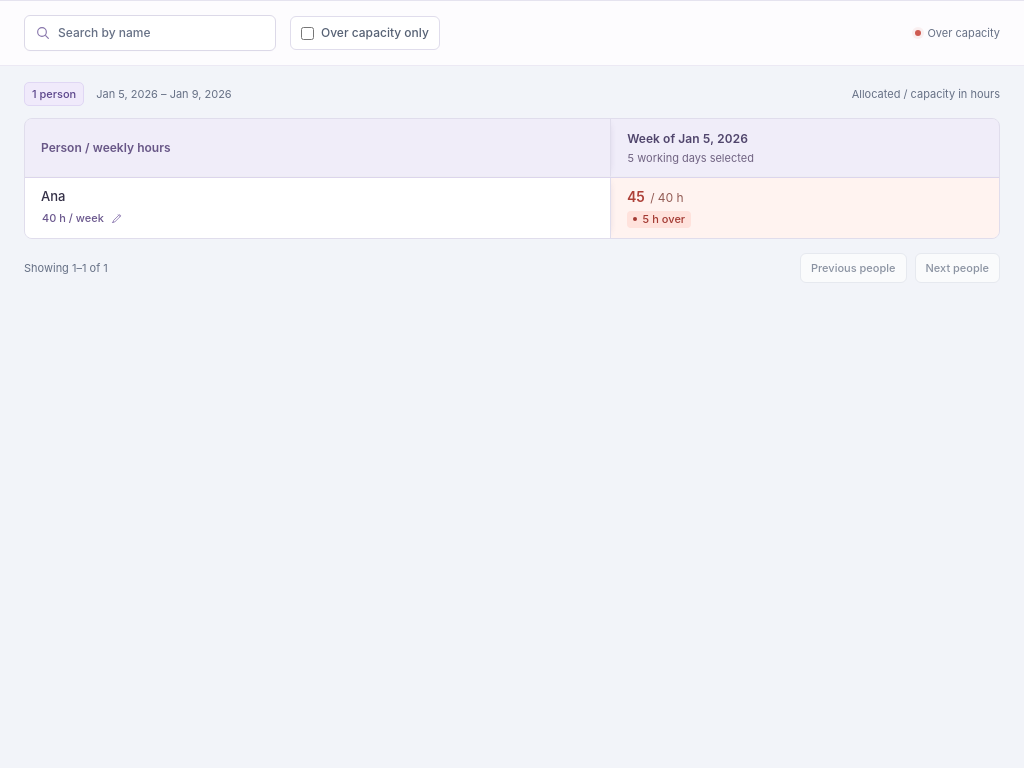
capacity planning › keeps a failed-save draft, then refreshes authoritative numbers on retry
Click the button with aria-label "Edit weekly hours for Ana" at x=82, y=218, box [36,208,128,228]
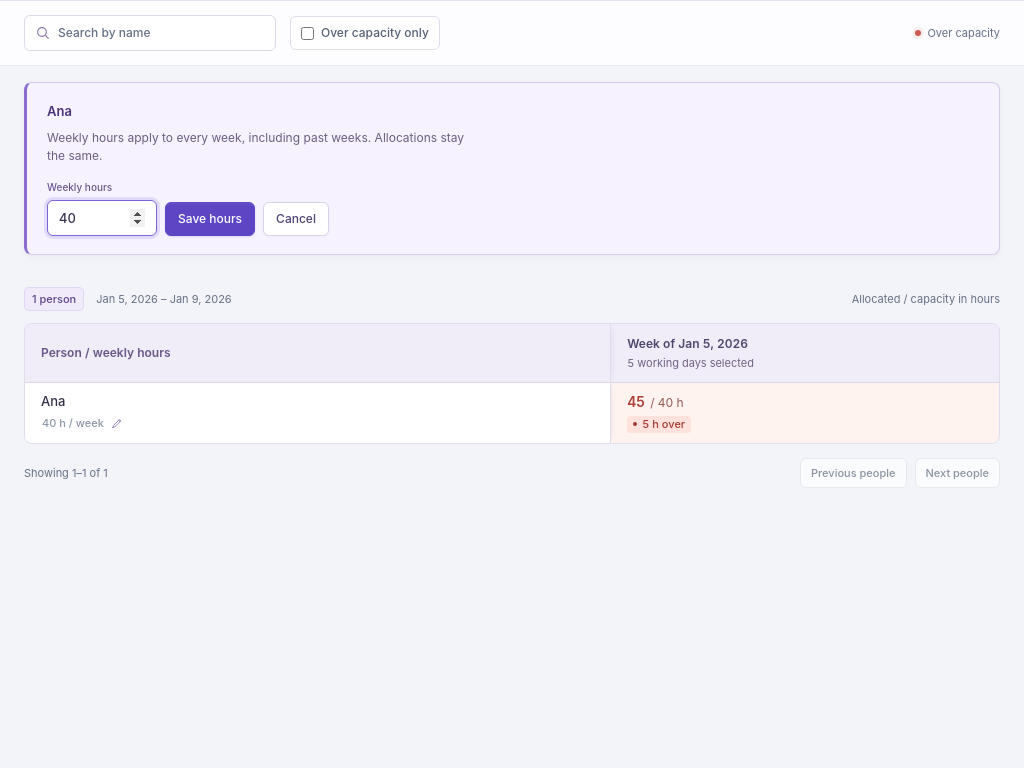
Replace the text in the number field labelled "Weekly hours" with "30" at x=102, y=218, box [47,200,157,236]
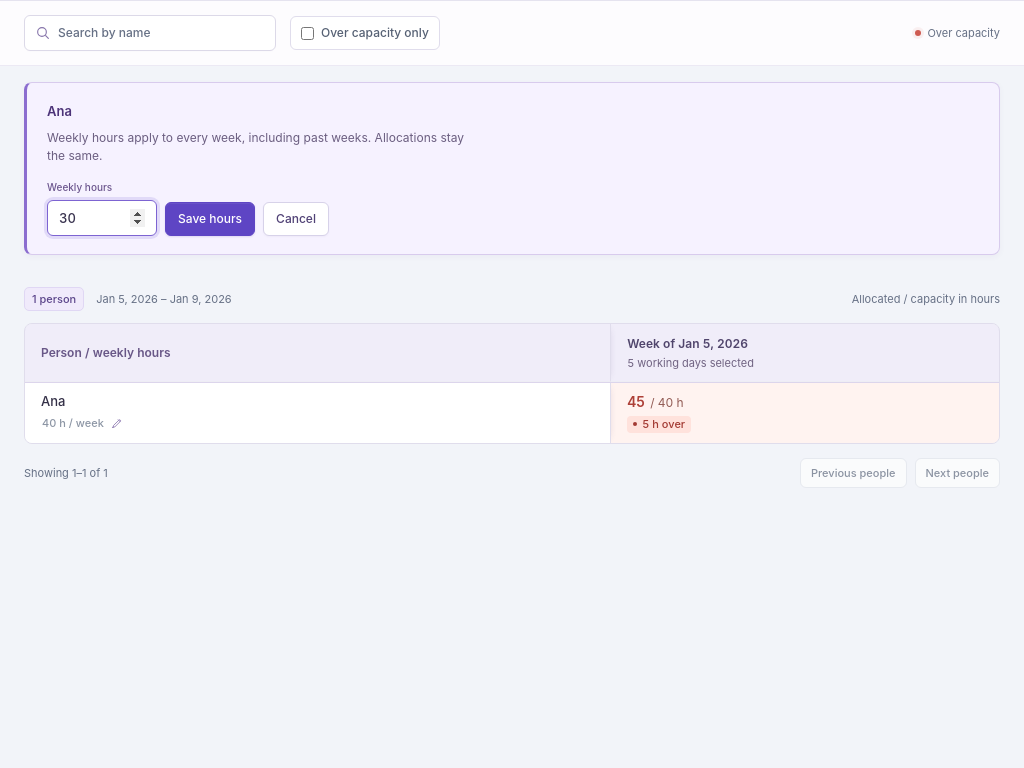
Click the button "Save hours" at x=210, y=219, box [165,202,255,236]
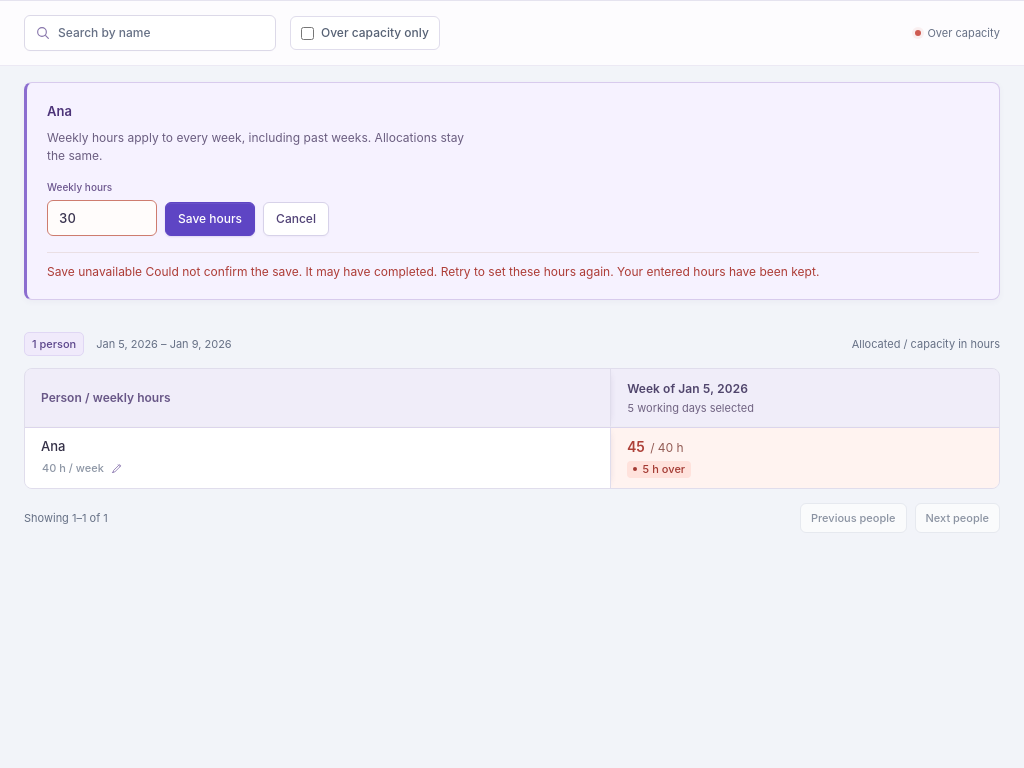
Expected: the text "5 h over" is shown, [627,460,691,478]
Expected: the message shows "Save unavailable", [47,264,614,279]
Click the button "Save hours" at x=210, y=219, box [165,202,255,236]
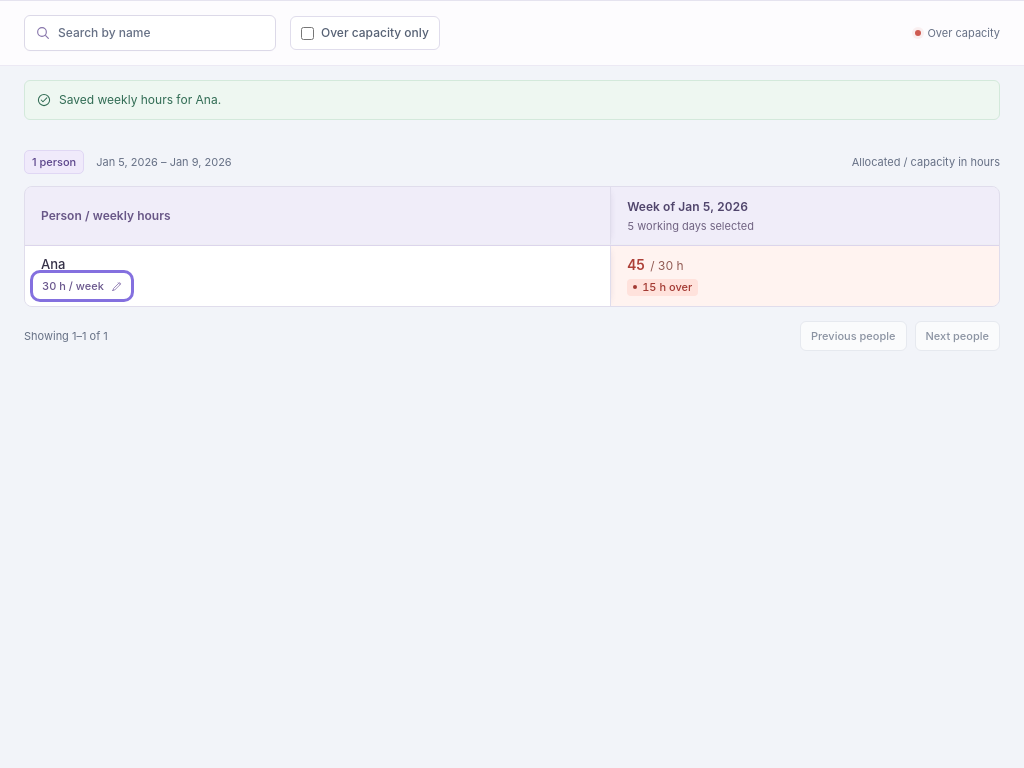
Expected: the text "15 h over" is shown, [627,278,698,296]
